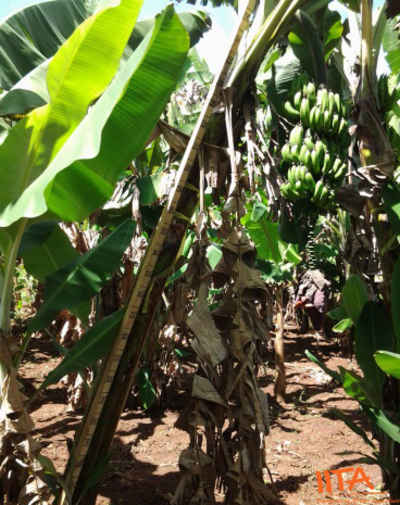bananaHand: (277, 70, 352, 212)
